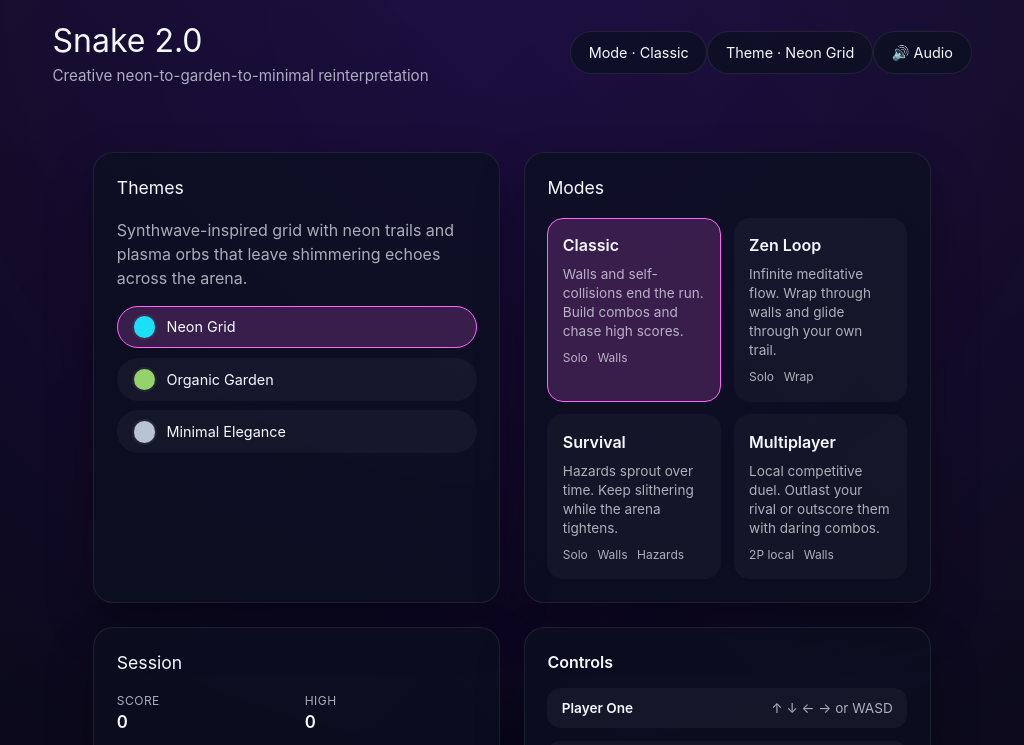
SnakeCreativeApp › allows switching themes and multiplayer mode
Click the button "Organic Garden". click: (220,379)
box: [117,358,477,401]
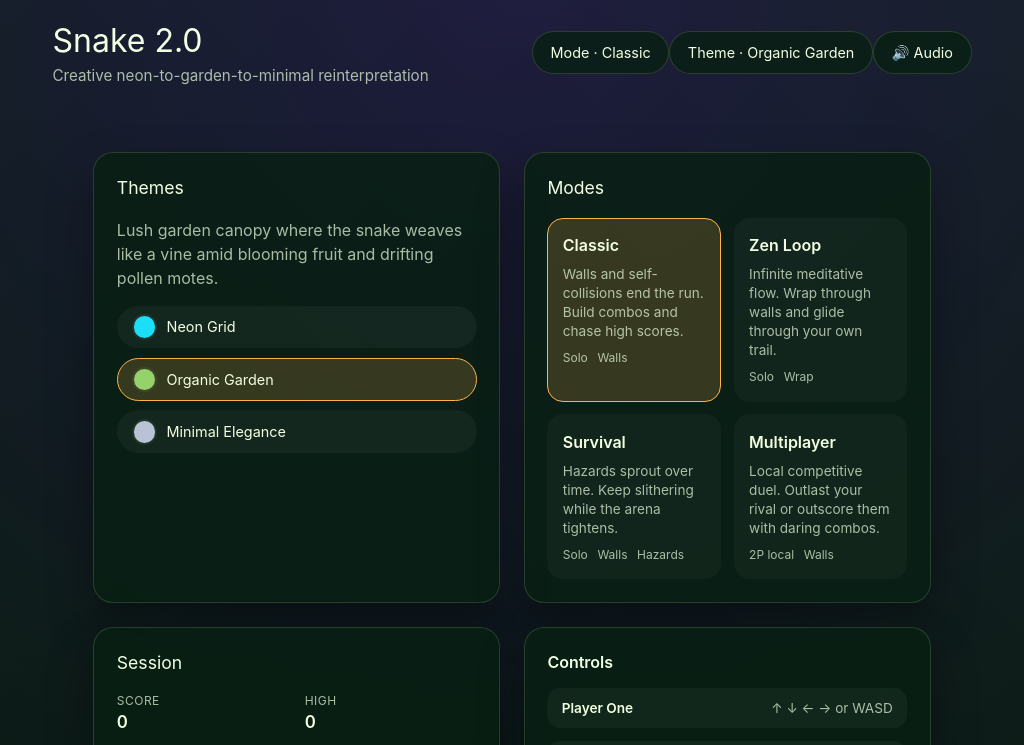
Now the text "Lush garden canopy" is shown, box [117,220,462,288]
Click the button "Multiplayer". click: (820,497)
box: [734,414,907,579]
(page scrolled)
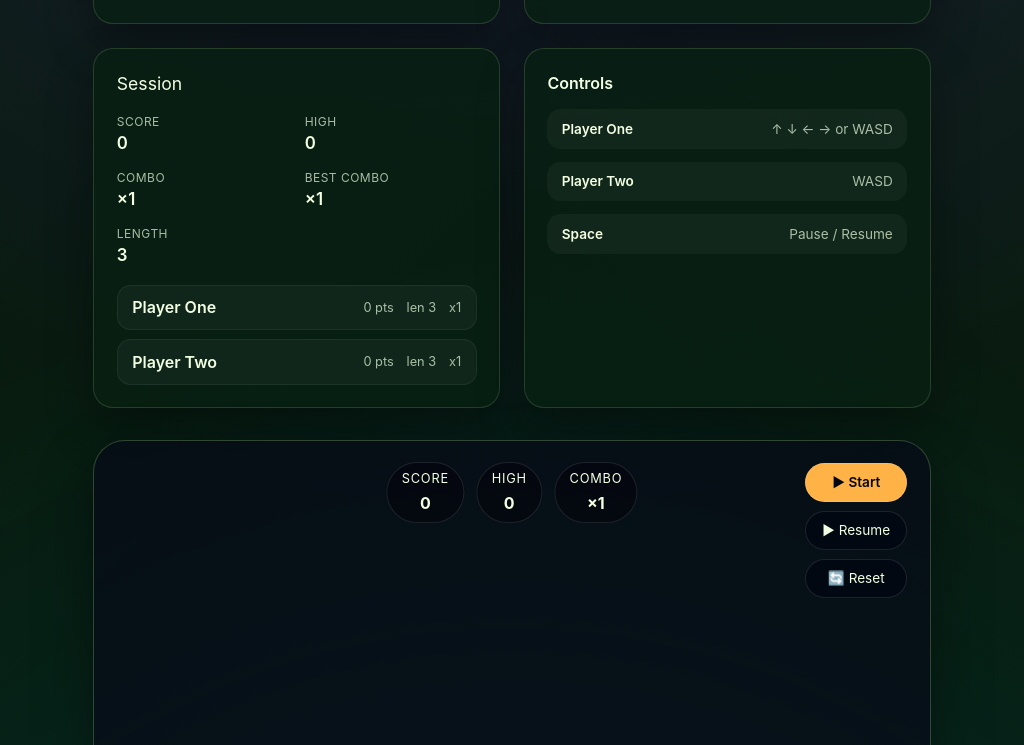
Now the text "Player Two" below "Session" is shown, box [132,352,217,372]
